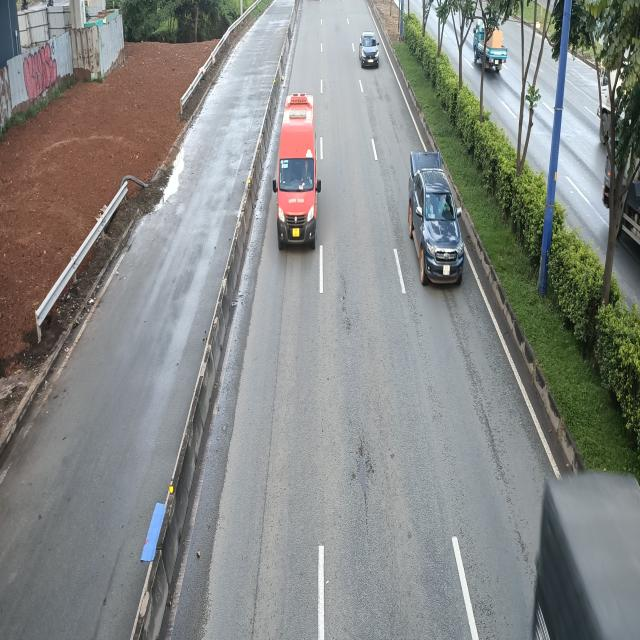car: (409, 149, 465, 285), (358, 33, 378, 68)
van: (274, 94, 323, 250)
